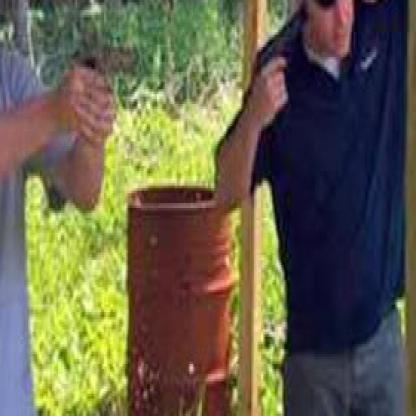gun: (64, 27, 148, 129), (239, 0, 317, 107)
